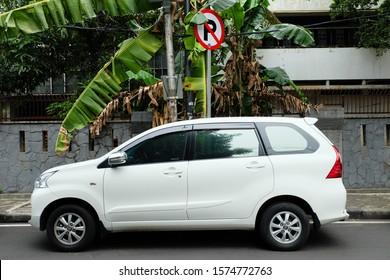No Parking: (196, 6, 227, 48)
